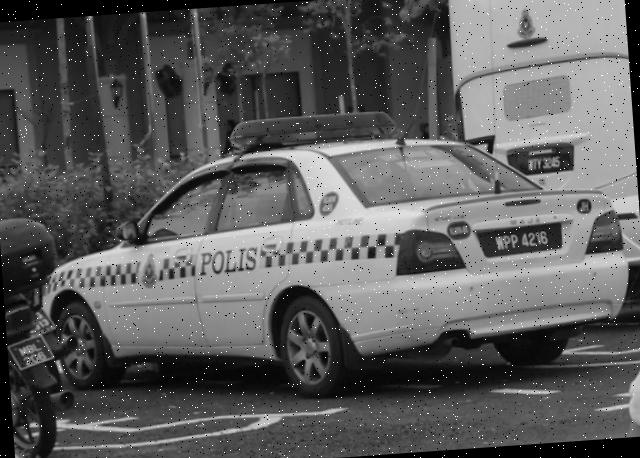License_Plate: (488, 224, 564, 260), (514, 150, 577, 175), (12, 339, 53, 373)
car: (23, 82, 640, 405)
motorcycle: (1, 187, 86, 458)
